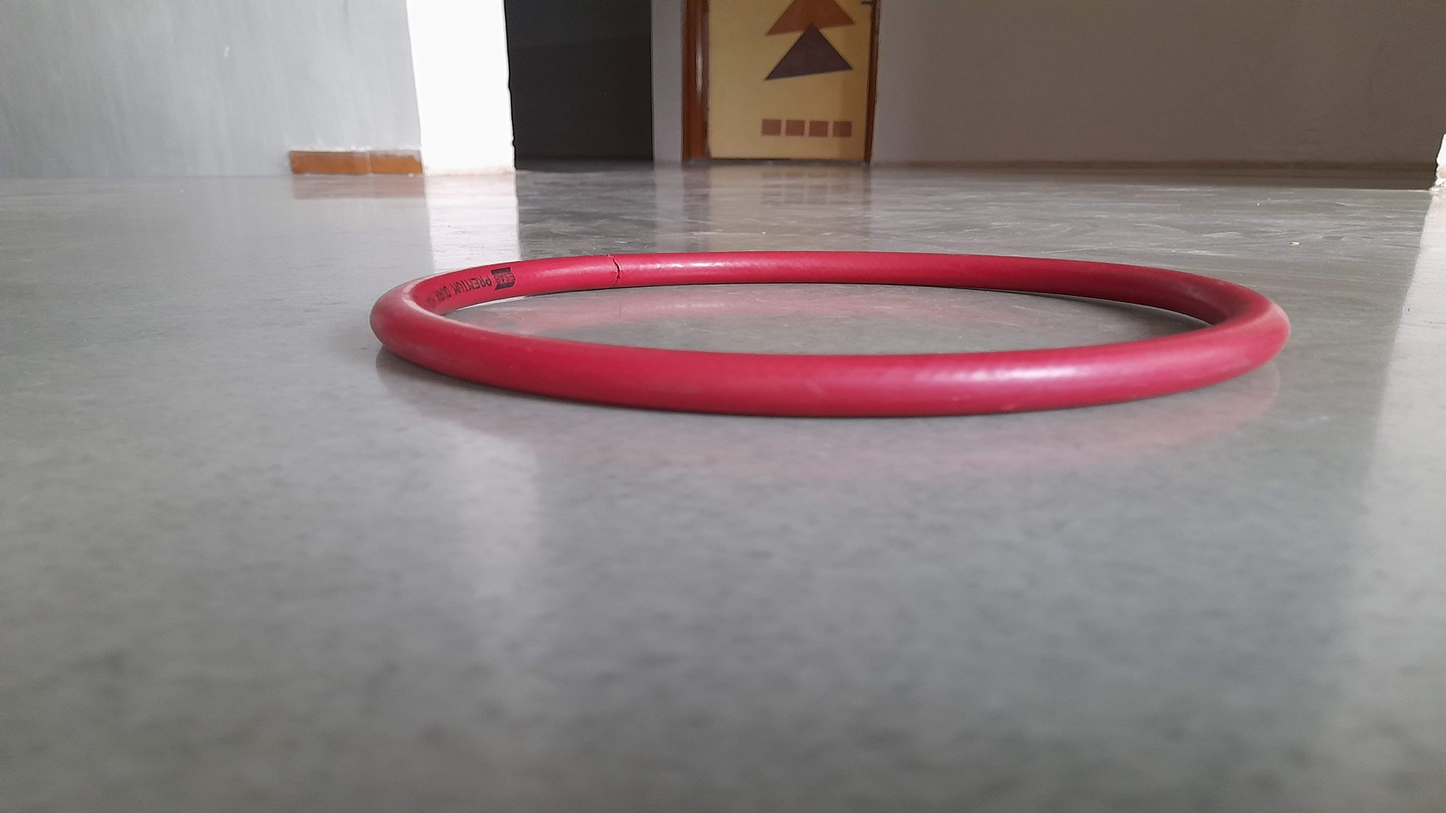Red ring: (372, 251, 1291, 406)
